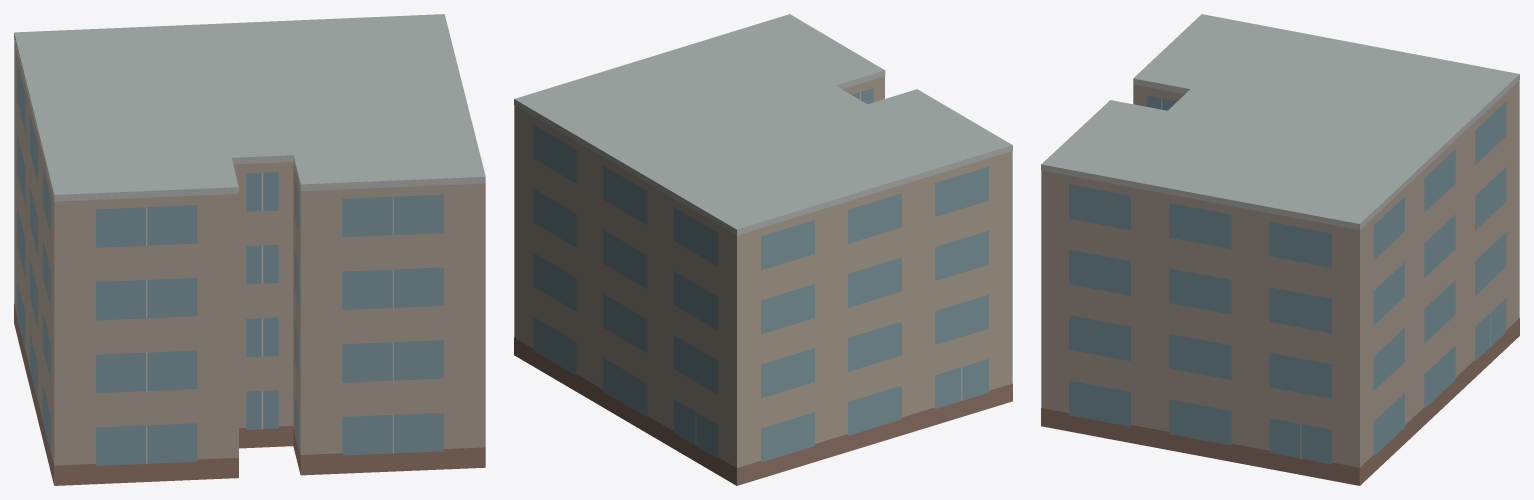
File: survey-upis-32664338.glb
3 renders of one model, left to right at view 1: azimuth 30°, elevation 25°; view 2: azimuth 150°, elevation 25°; view 3: azimuth 270°, elevation 25°, orthographic. The views are drawn at different scales.
Parts seen in each view (by area): view 1: survey-upis-32664338.tmp; view 2: survey-upis-32664338.tmp; view 3: survey-upis-32664338.tmp.
Part boxes in pixels (x1,y1,x2,y2): survey-upis-32664338.tmp: [14, 14, 485, 485]; survey-upis-32664338.tmp: [514, 14, 1012, 485]; survey-upis-32664338.tmp: [1041, 14, 1519, 485].
Size of the model in its own units: 18.25 by 10.6 by 17.57.
